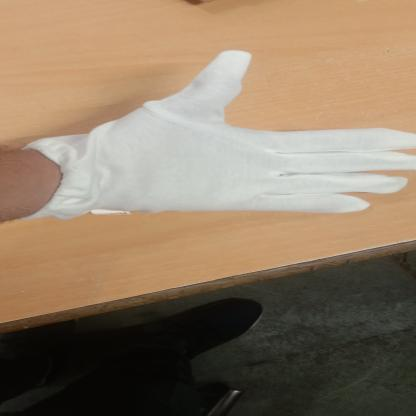gloved_hand: (10, 46, 416, 236)
